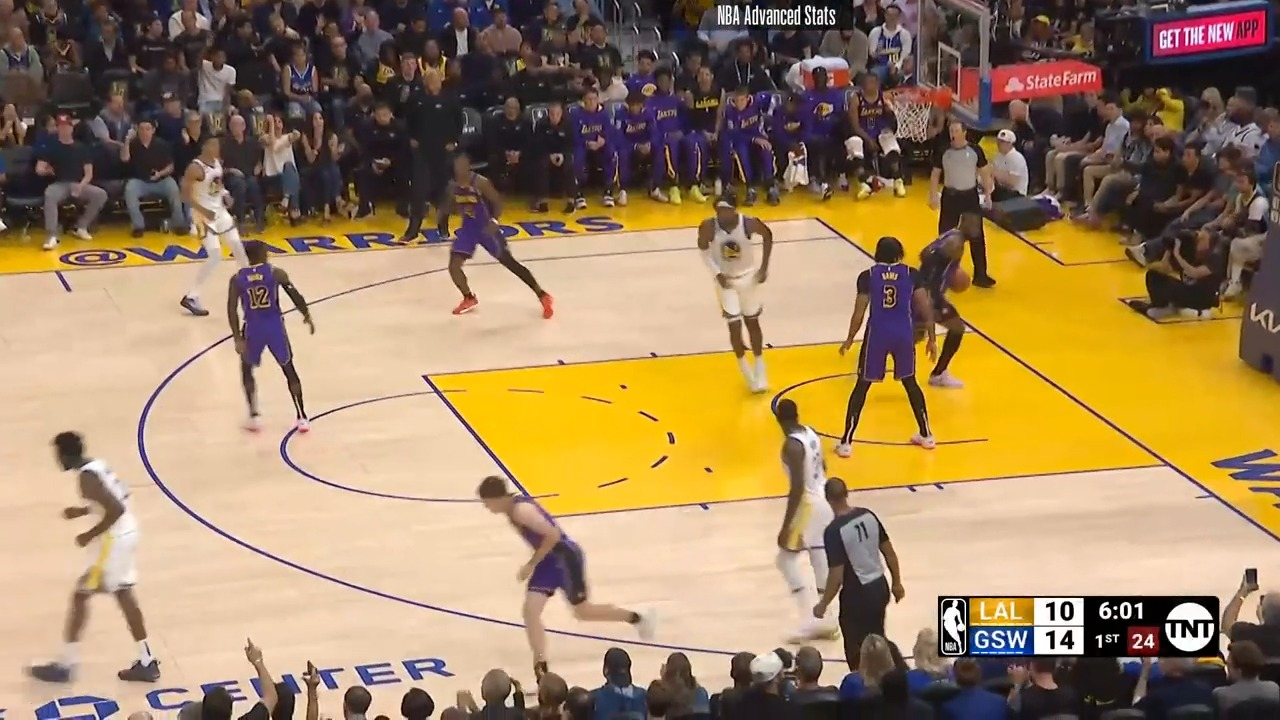net: (866, 79, 957, 141)
player: (473, 471, 653, 696), (46, 428, 171, 702), (834, 230, 936, 464), (440, 151, 564, 324), (219, 238, 319, 441), (771, 399, 848, 641), (694, 190, 779, 399), (914, 205, 988, 395), (171, 138, 245, 320)
referee: (812, 476, 911, 666), (932, 126, 1000, 296)
